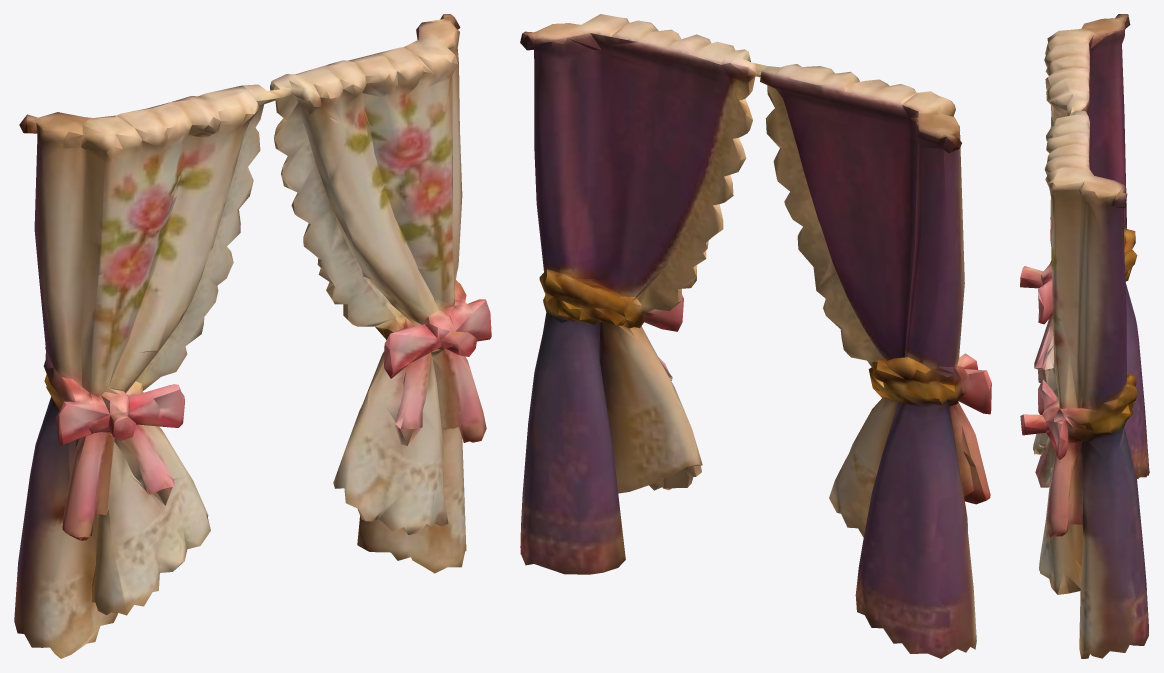
Rendered from curtain10.glb.
The picture shows the model from 3 angles, left to right: view 1: azimuth 30°, elevation 25°; view 2: azimuth 150°, elevation 25°; view 3: azimuth 270°, elevation 25°; orthographic projection. The views are drawn at different scales.
Bounding box in the file's own units: 0.2375 × 0.2771 × 0.0688.
Materials: 1 (1 with a texture image).
